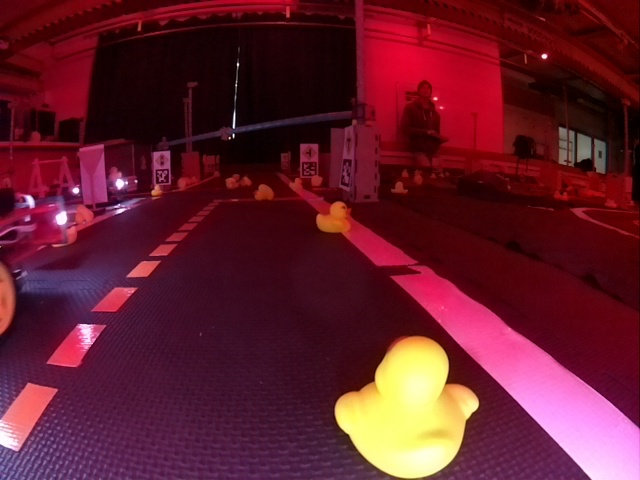Duckie: (335, 336, 478, 479), (316, 202, 350, 233), (254, 184, 273, 201), (290, 178, 302, 188), (152, 187, 161, 196), (227, 178, 236, 187), (242, 178, 251, 186), (415, 175, 422, 184)
Duckiebot: (0, 186, 67, 339)
Intersection sign: (344, 128, 354, 158), (302, 144, 317, 159)
QR code: (341, 159, 352, 189), (301, 161, 317, 177), (154, 169, 170, 184)
Signal sign: (155, 152, 170, 167)
Traffic light: (220, 128, 232, 140)
